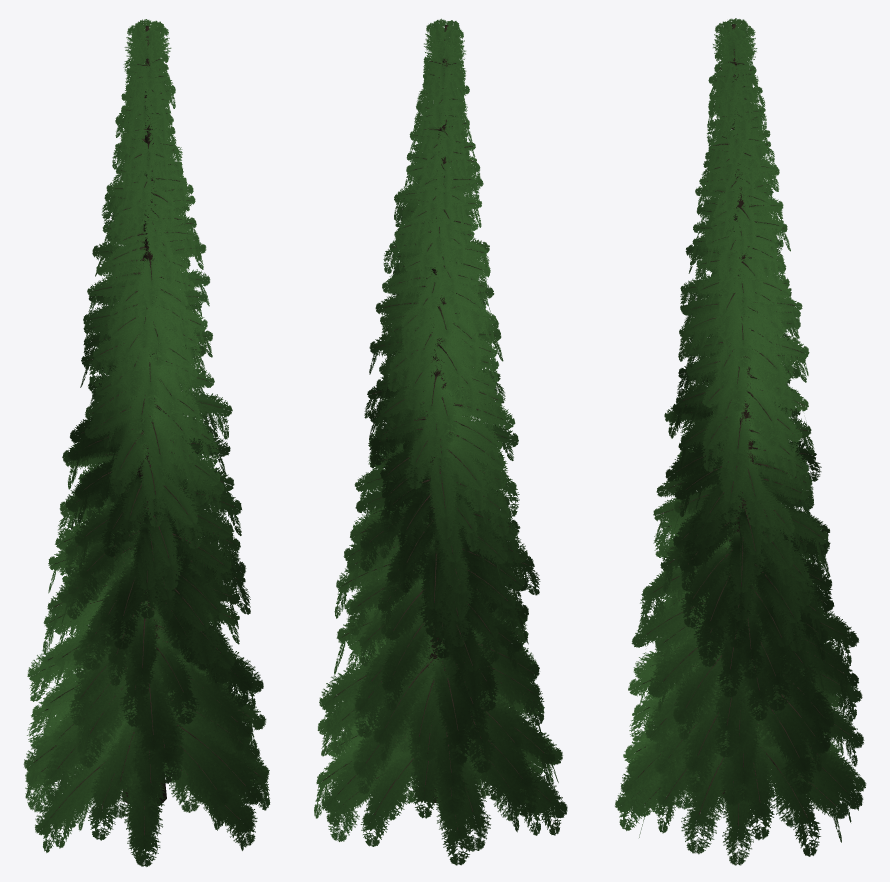
Rendered from spruce_conifer_v01.fbx.
The picture shows the model from 3 angles, left to right: view 1: azimuth 30°, elevation 25°; view 2: azimuth 150°, elevation 25°; view 3: azimuth 270°, elevation 25°; orthographic projection.
Visible parts, largest first — view 1: spruce_conifer_v01; view 2: spruce_conifer_v01; view 3: spruce_conifer_v01.
Boxes of the visible parts, left/top/right/bottom form: spruce_conifer_v01: left=23, top=19, right=270, bottom=866; spruce_conifer_v01: left=314, top=18, right=567, bottom=865; spruce_conifer_v01: left=615, top=18, right=866, bottom=865.
Bounding box in the file's own units: 711 × 701 × 2305.
2 materials, 2 textured.
